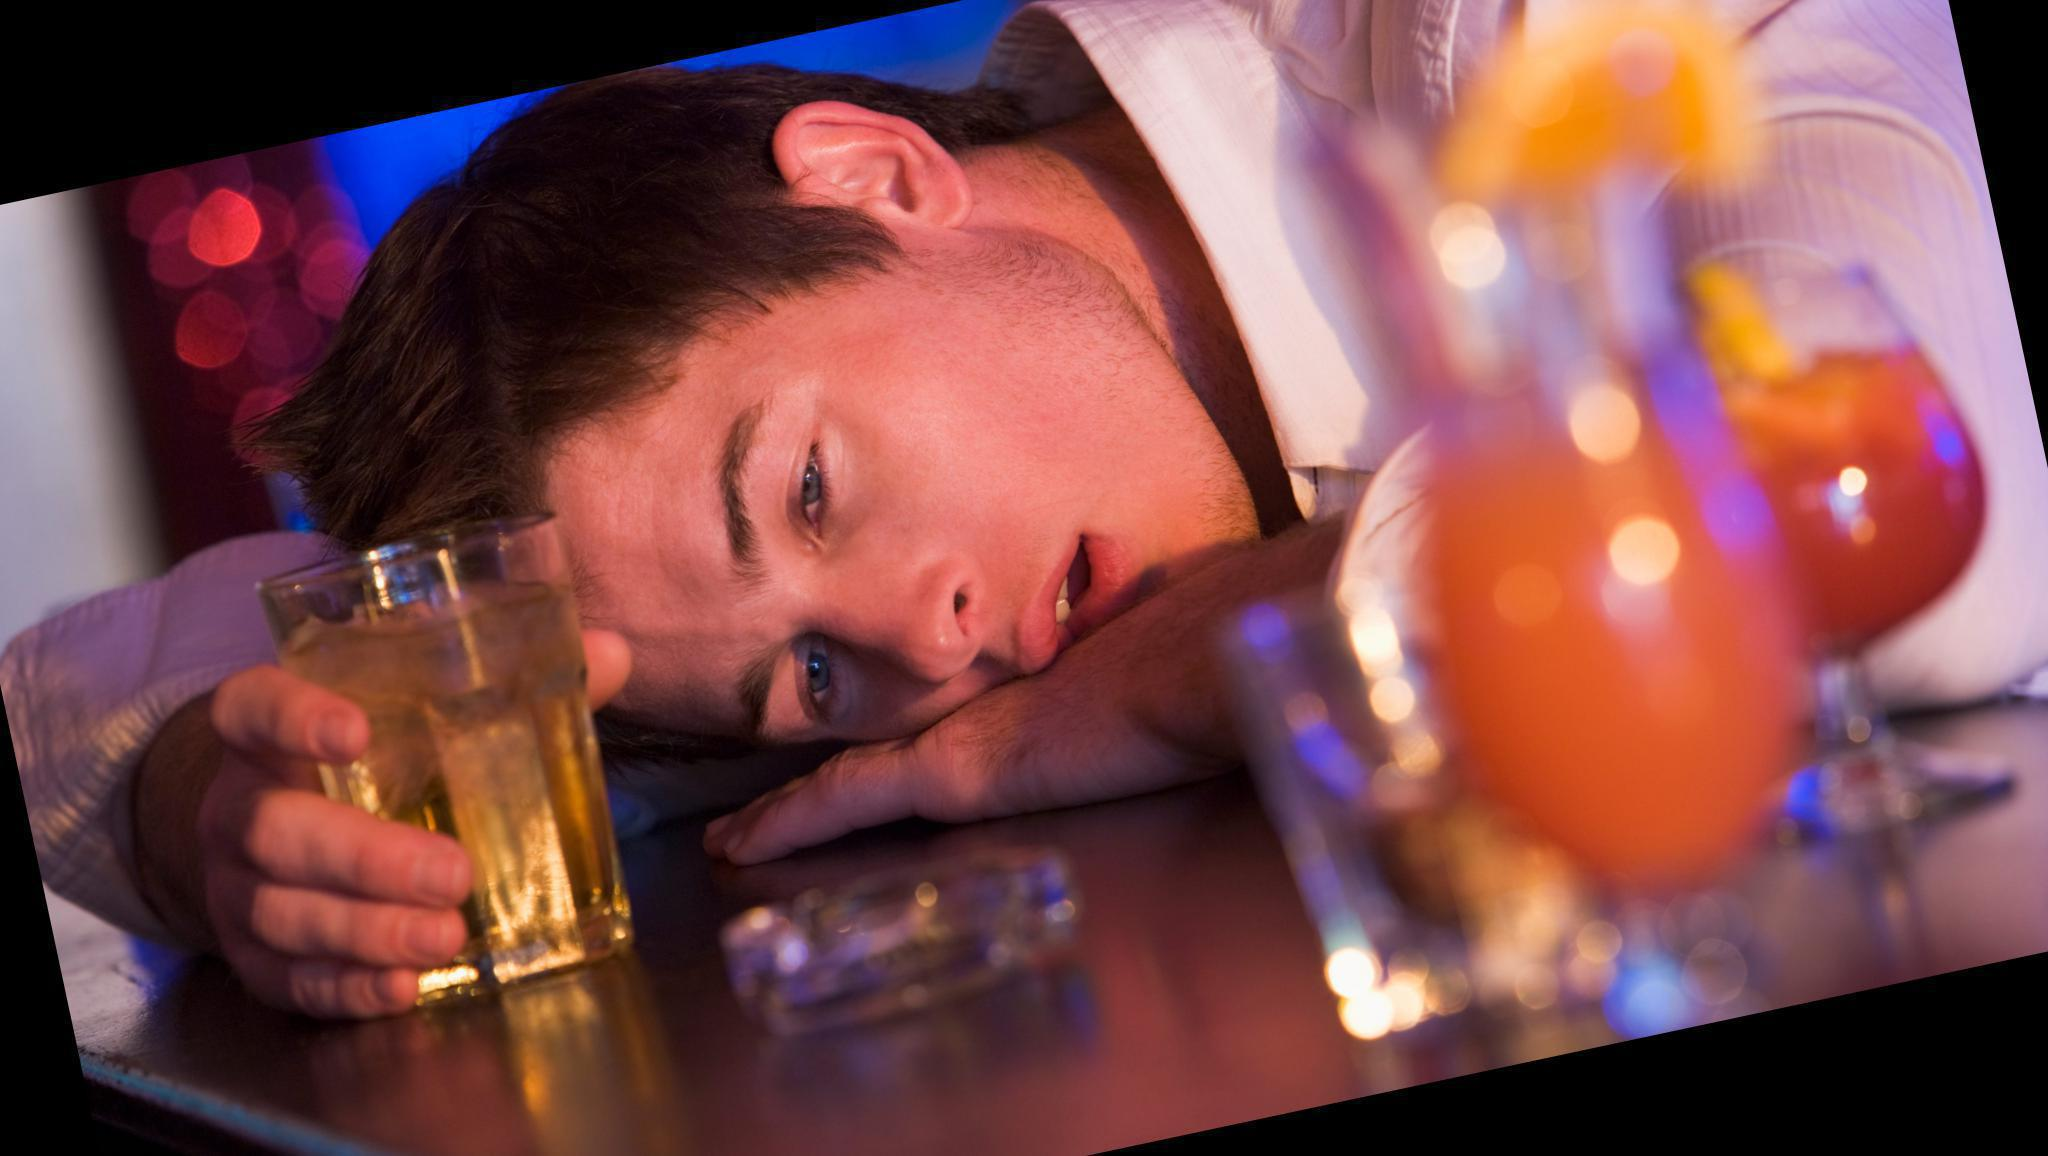Drunk: (558, 326, 1225, 730)
